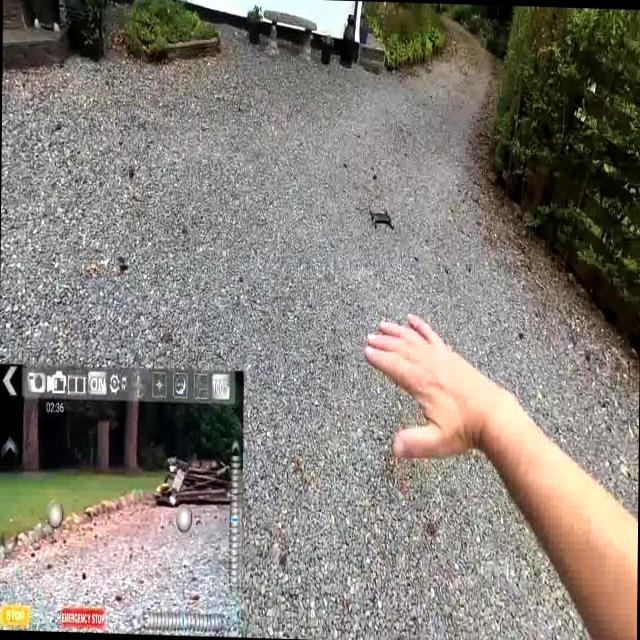drone: (364, 204, 398, 234)
